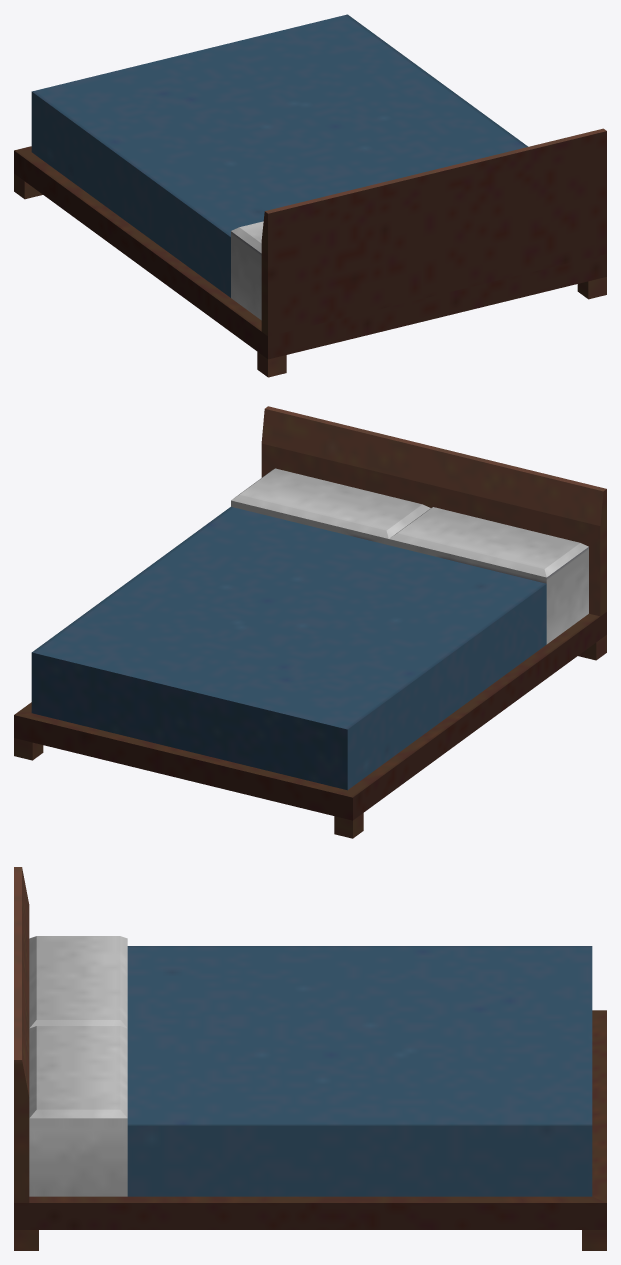
File: bed.fbx
3 views of the same model, one above another, from view 1: azimuth 30°, elevation 25°; view 2: azimuth 150°, elevation 25°; view 3: azimuth 270°, elevation 25° (orthographic). The views are drawn at different scales.
Visible parts, largest first — view 1: Bed; view 2: Bed; view 3: Bed.
Part boxes in pixels (x1,y1,x2,y2): Bed: [14, 14, 606, 377]; Bed: [14, 406, 606, 838]; Bed: [14, 867, 606, 1250].
Bounding box in the file's own units: 2.7 × 3.51 × 1.25.
3 materials, 3 textured.
